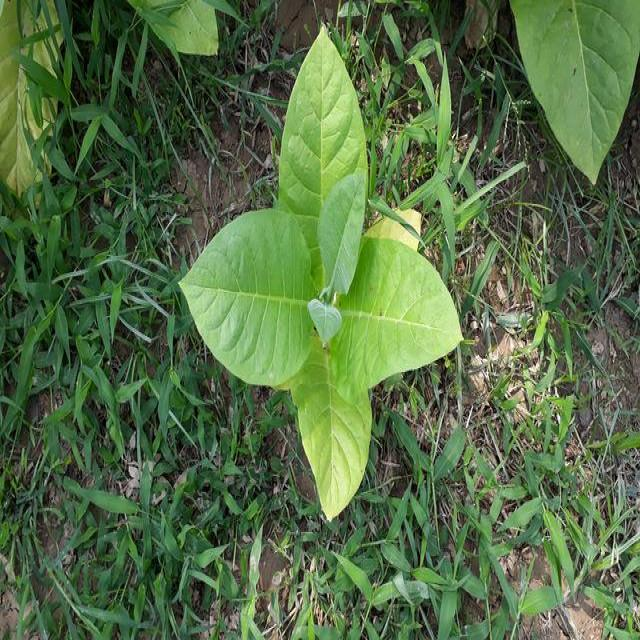crop: (177, 30, 473, 509)
